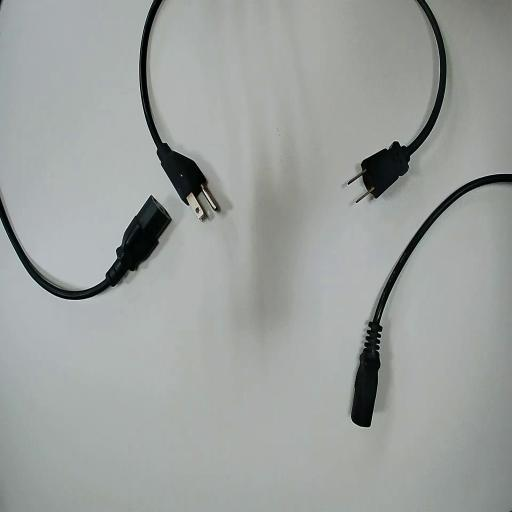wire: (352, 175, 511, 425), (0, 198, 170, 298), (361, 0, 445, 196), (140, 0, 208, 202)
